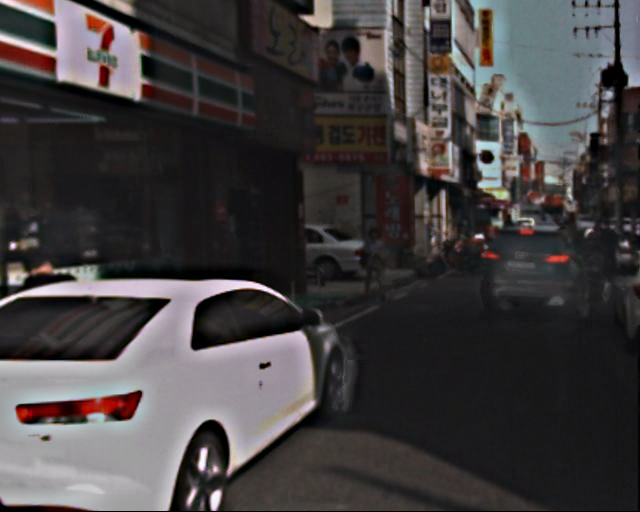person: (9, 233, 90, 402), (360, 228, 398, 302), (594, 218, 623, 285)
